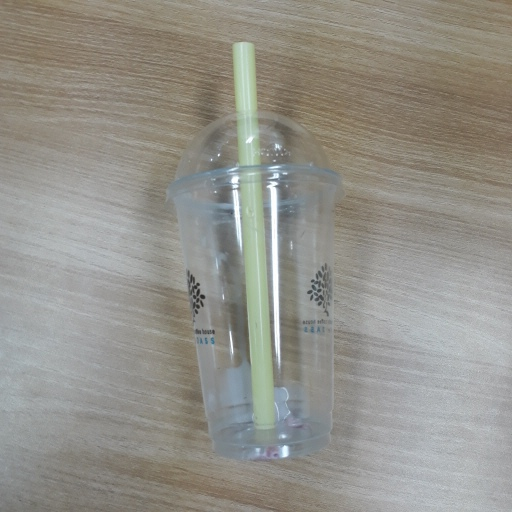Plastic_2: (158, 40, 349, 464)
